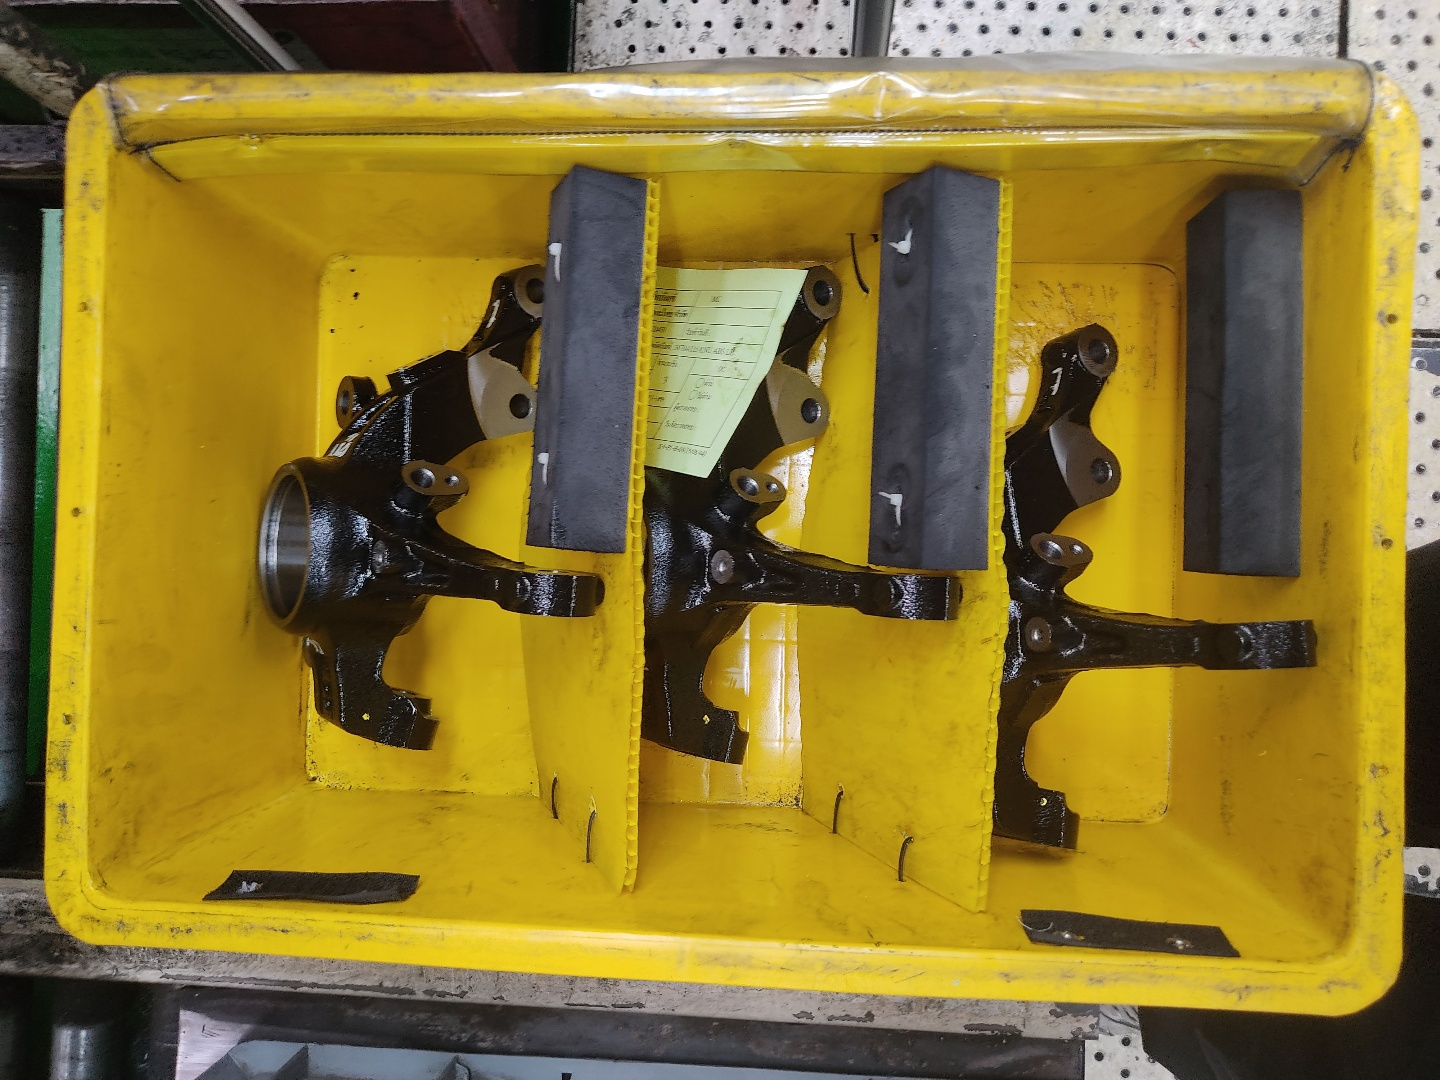abs-lh: (986, 320, 1329, 859), (244, 255, 611, 757), (639, 256, 971, 771)
